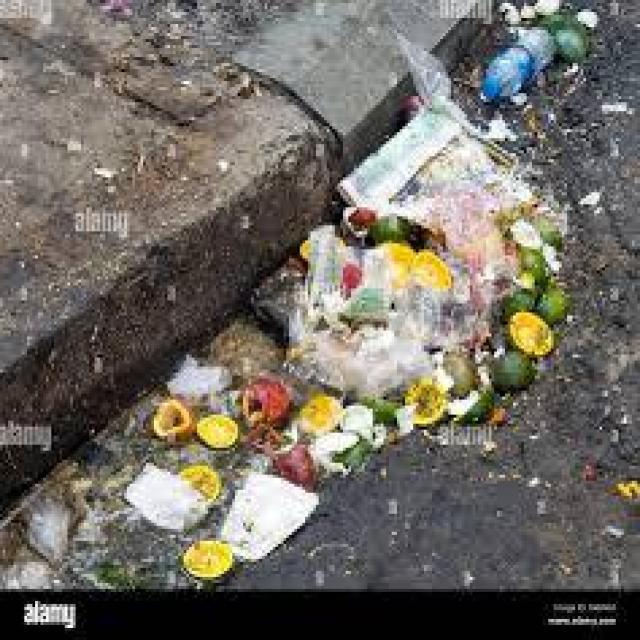curb: (1, 62, 338, 519), (229, 1, 515, 167)
